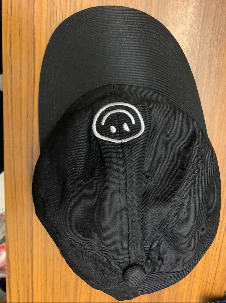object_name: (34, 14, 214, 289)
